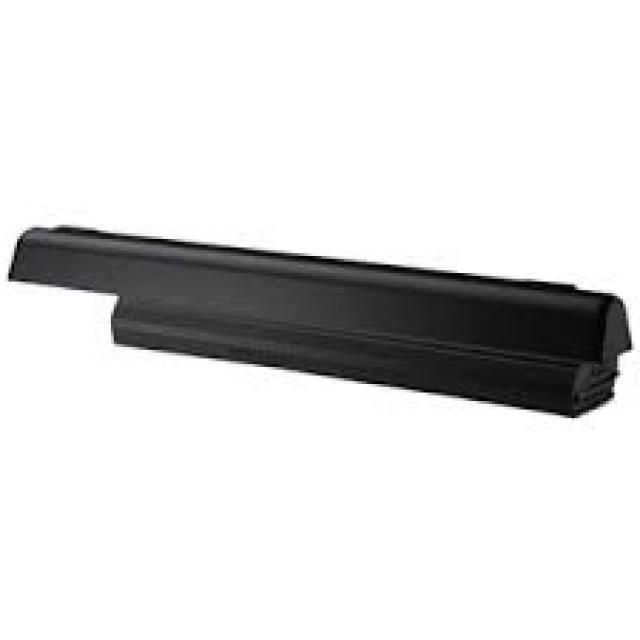battery: (0, 222, 630, 419)
